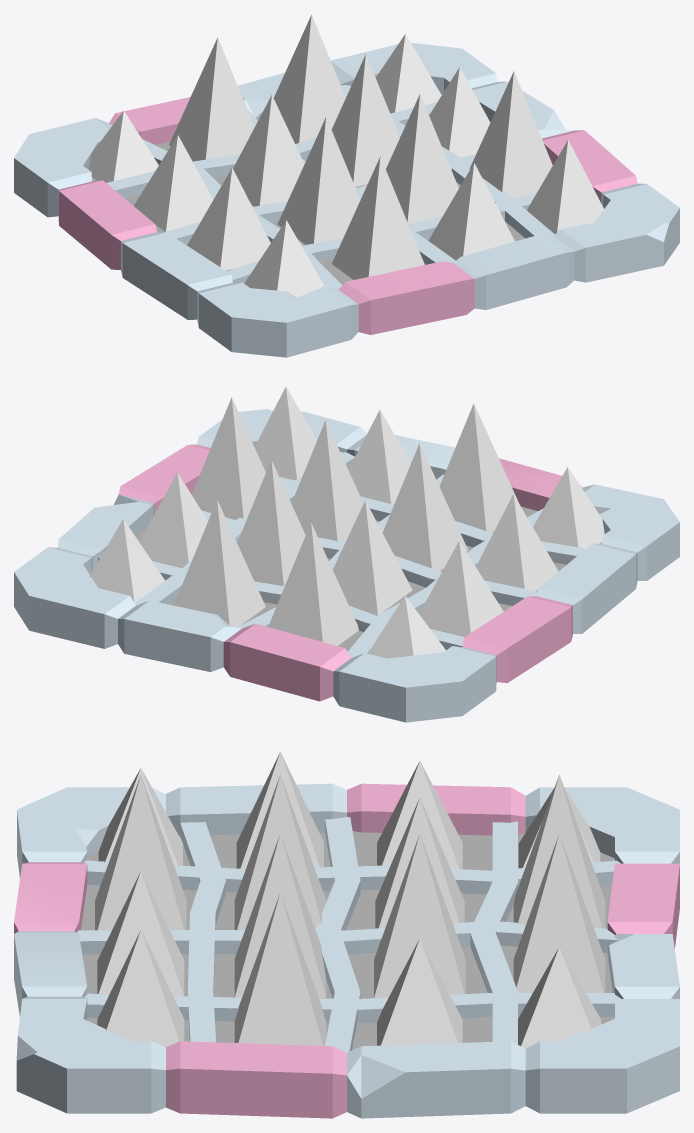
Rendered from Moving_Platform_With_Thorns.fbx.
3 views of the same model, one above another, from view 1: azimuth 30°, elevation 25°; view 2: azimuth 150°, elevation 25°; view 3: azimuth 270°, elevation 25° (orthographic). The views are drawn at different scales.
Visible parts, largest first — view 1: Moving_Platform_With_Thorns; view 2: Moving_Platform_With_Thorns; view 3: Moving_Platform_With_Thorns.
Boxes of the visible parts, x1,y1,x2,y2 form: Moving_Platform_With_Thorns: (14,14,679,357); Moving_Platform_With_Thorns: (14,387,679,722); Moving_Platform_With_Thorns: (14,752,679,1118).
Bounding box in the file's own units: 198 × 55.04 × 193.
